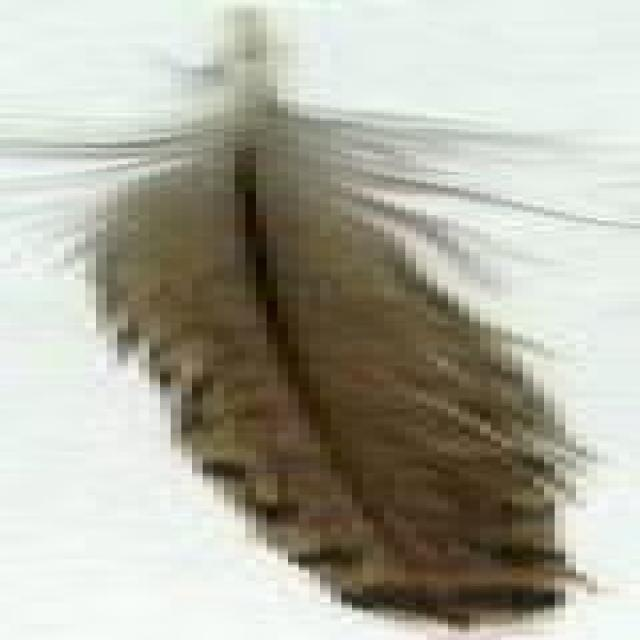feather: (22, 3, 640, 625)
